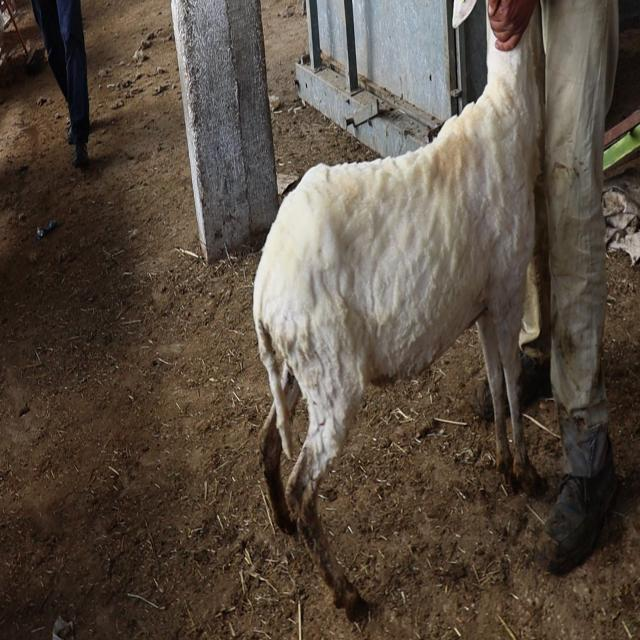Score_4: (253, 18, 544, 617)
